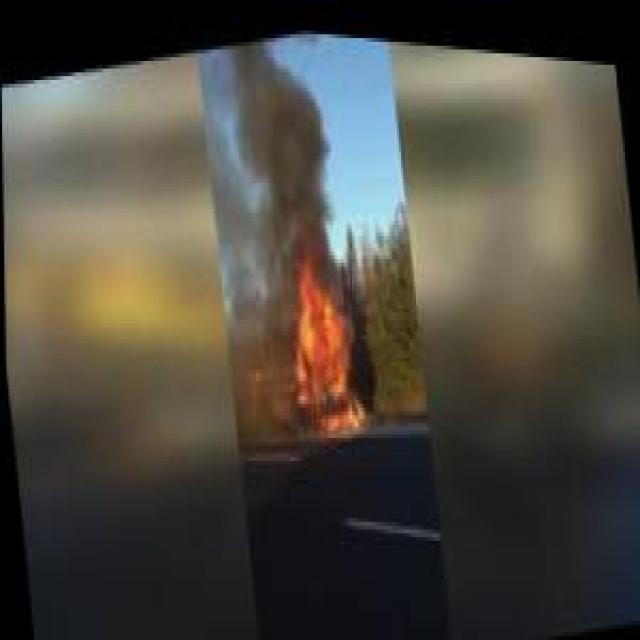Fire: (266, 221, 378, 446)
Smoke: (209, 19, 348, 263)
